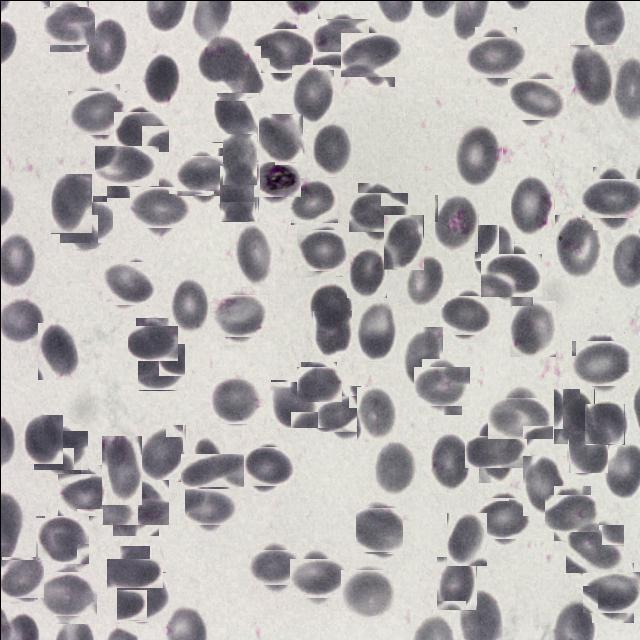red blood cell: (106, 474, 162, 530), (554, 214, 602, 278), (455, 124, 502, 188), (257, 22, 311, 76), (574, 335, 628, 389), (492, 390, 546, 444), (567, 520, 621, 574), (344, 27, 398, 81), (510, 173, 554, 237), (138, 424, 186, 482), (101, 435, 141, 504), (586, 172, 638, 224), (586, 566, 638, 618), (70, 86, 122, 138), (314, 14, 366, 66), (484, 248, 536, 300), (100, 138, 152, 190), (41, 567, 92, 619), (469, 31, 521, 82), (61, 468, 112, 520), (570, 42, 612, 104), (134, 181, 185, 232), (116, 572, 168, 622), (356, 298, 397, 361), (509, 300, 555, 356), (434, 194, 478, 252), (36, 514, 87, 564), (512, 73, 562, 124), (342, 566, 392, 617), (522, 455, 564, 515), (373, 440, 418, 496), (50, 173, 92, 233), (212, 375, 262, 425), (352, 186, 402, 236), (104, 258, 154, 308), (212, 290, 262, 340), (234, 223, 274, 285), (402, 326, 442, 388), (84, 16, 126, 75), (429, 433, 471, 492), (291, 64, 333, 122), (479, 493, 528, 542), (37, 321, 79, 378), (293, 553, 342, 601), (187, 446, 236, 494), (211, 92, 258, 142), (36, 426, 84, 474), (180, 151, 228, 199), (116, 108, 164, 156), (417, 362, 465, 410), (553, 388, 594, 444), (474, 223, 514, 280), (242, 442, 290, 489), (298, 225, 346, 272), (471, 427, 518, 475), (138, 342, 185, 390), (216, 45, 260, 96), (170, 277, 209, 334), (442, 292, 490, 338), (290, 176, 336, 224), (256, 113, 302, 161), (383, 214, 423, 269), (356, 386, 396, 441), (219, 165, 258, 221), (62, 198, 108, 245), (270, 380, 316, 427), (312, 122, 352, 176), (436, 556, 476, 610), (196, 38, 246, 81), (446, 512, 486, 565), (356, 506, 402, 552), (319, 390, 365, 436), (548, 490, 594, 536), (346, 245, 386, 297), (251, 544, 297, 589), (141, 52, 180, 104), (188, 484, 233, 529), (46, 3, 91, 48), (307, 284, 351, 330), (405, 256, 443, 306), (24, 414, 62, 463), (131, 321, 174, 364), (112, 552, 156, 594), (0, 558, 42, 600), (312, 310, 351, 355), (222, 133, 256, 184), (584, 403, 624, 444), (298, 364, 338, 404), (566, 433, 606, 472)
trophozoite: (255, 158, 297, 200)
